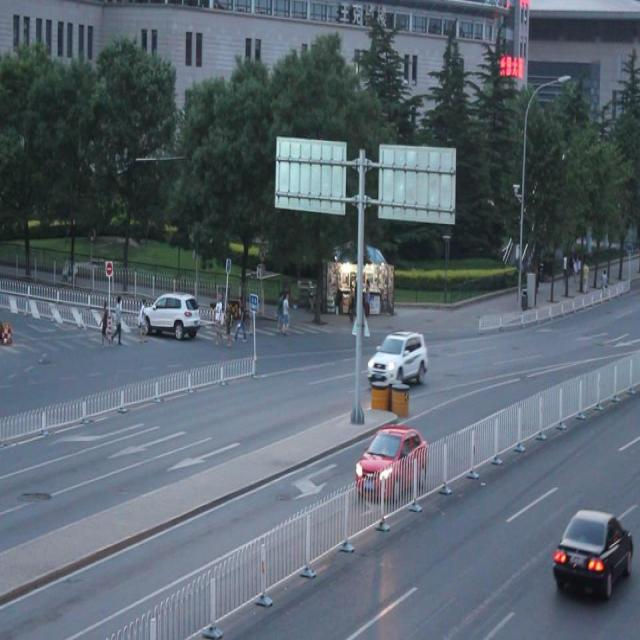car: (550, 502, 632, 597), (353, 423, 428, 496), (365, 326, 426, 393), (139, 289, 201, 339)
